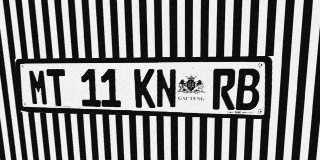1: (80, 69, 101, 107), (100, 69, 121, 107)
B: (236, 68, 261, 110)
K: (134, 69, 155, 108)
M: (28, 69, 49, 106)
N: (155, 69, 177, 109)
R: (212, 69, 236, 110)
T: (46, 69, 68, 106)
